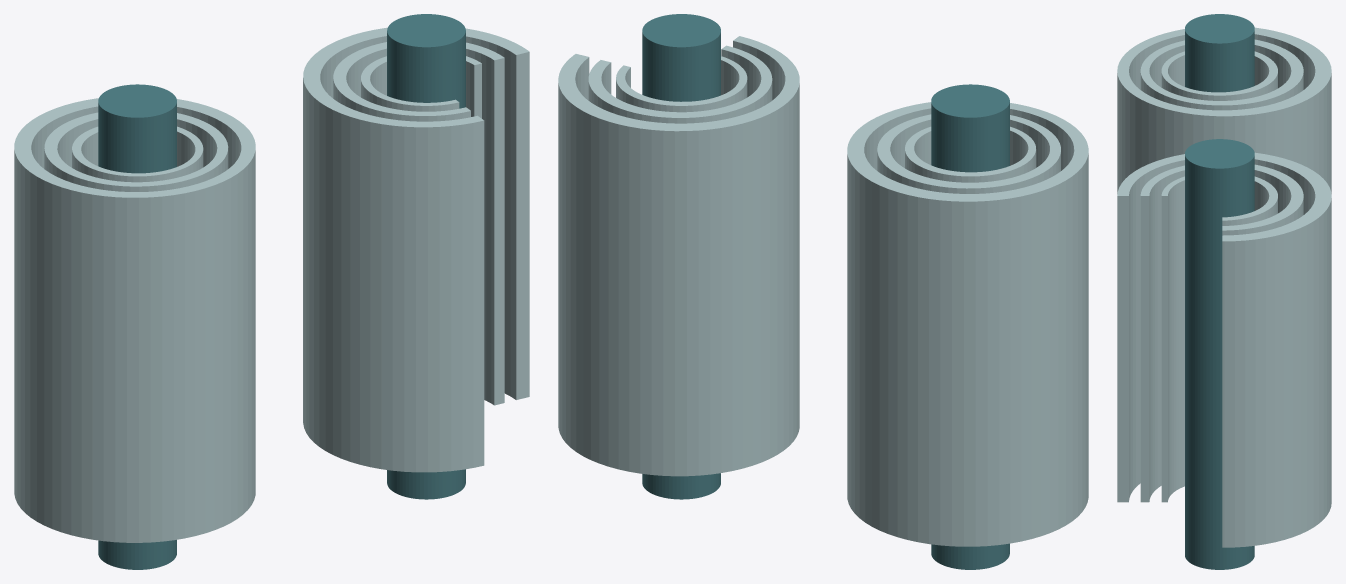
The model's file is Builtin Transmission.glb.
3 renders of one model, left to right at view 1: azimuth 30°, elevation 25°; view 2: azimuth 150°, elevation 25°; view 3: azimuth 270°, elevation 25°, orthographic. The views are drawn at different scales.
Parts seen in each view (by area): view 1: Mesh_Mesh_head_geo.001_lambert2SG.001; view 2: Mesh_Mesh_head_geo.001_lambert2SG.001; view 3: Mesh_Mesh_head_geo.001_lambert2SG.001.
Part boxes in pixels (x1=…): Mesh_Mesh_head_geo.001_lambert2SG.001: x1=14, y1=14, x2=529, y2=569; Mesh_Mesh_head_geo.001_lambert2SG.001: x1=558, y1=14, x2=1088, y2=569; Mesh_Mesh_head_geo.001_lambert2SG.001: x1=1117, y1=14, x2=1331, y2=569.
Bounding box in the file's own units: 219 × 190 × 92.
